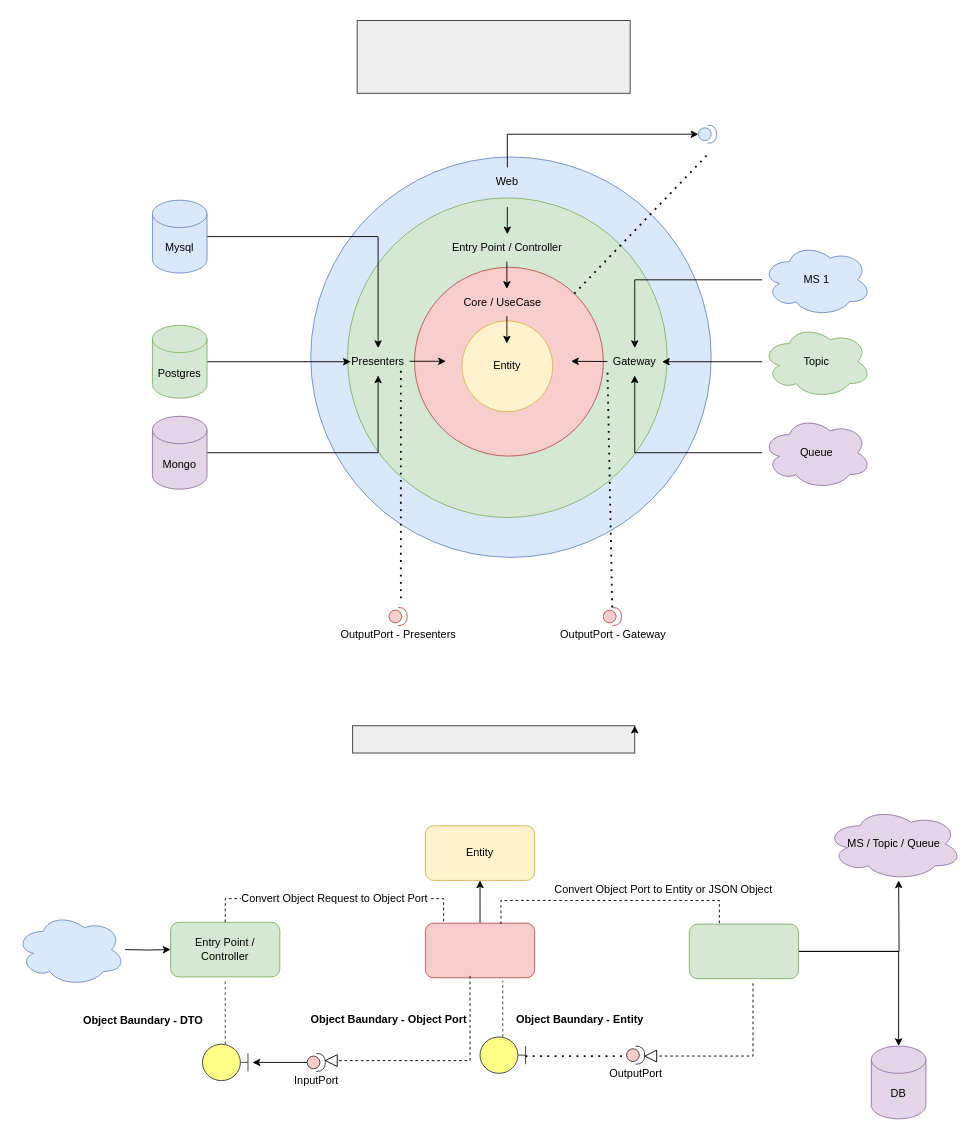
Image size: 978x1135. Some labels were removed from this diagram. Here are the shapes that lost their labels. From the top down, the centre of each, then its label:
point 493,56: High Level Architecture By Clen Architecture
point 707,133: InputPort - Requests Clients
point 493,739: High Low Architecture
point 70,949: Request
point 480,950: Core / Use Case
point 743,951: Presenters / Gateway
